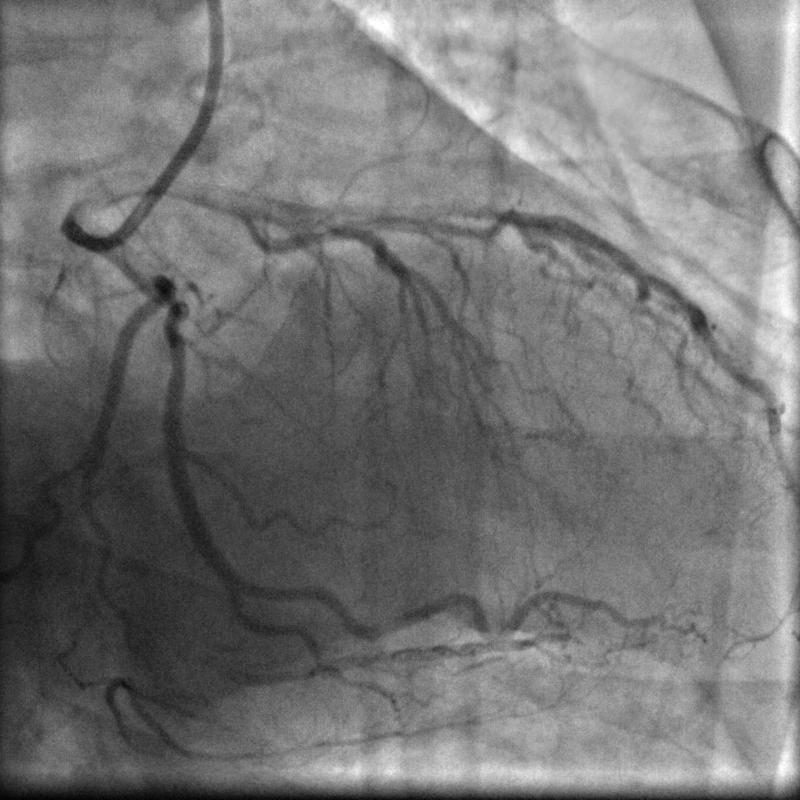Stenosis: (153, 292, 189, 359)
